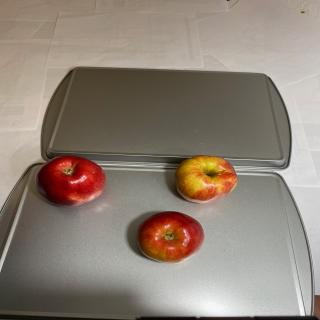Apple: (34, 155, 106, 207), (136, 211, 204, 264), (174, 154, 238, 203)
